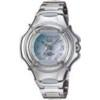watch: (19, 19, 80, 76)
